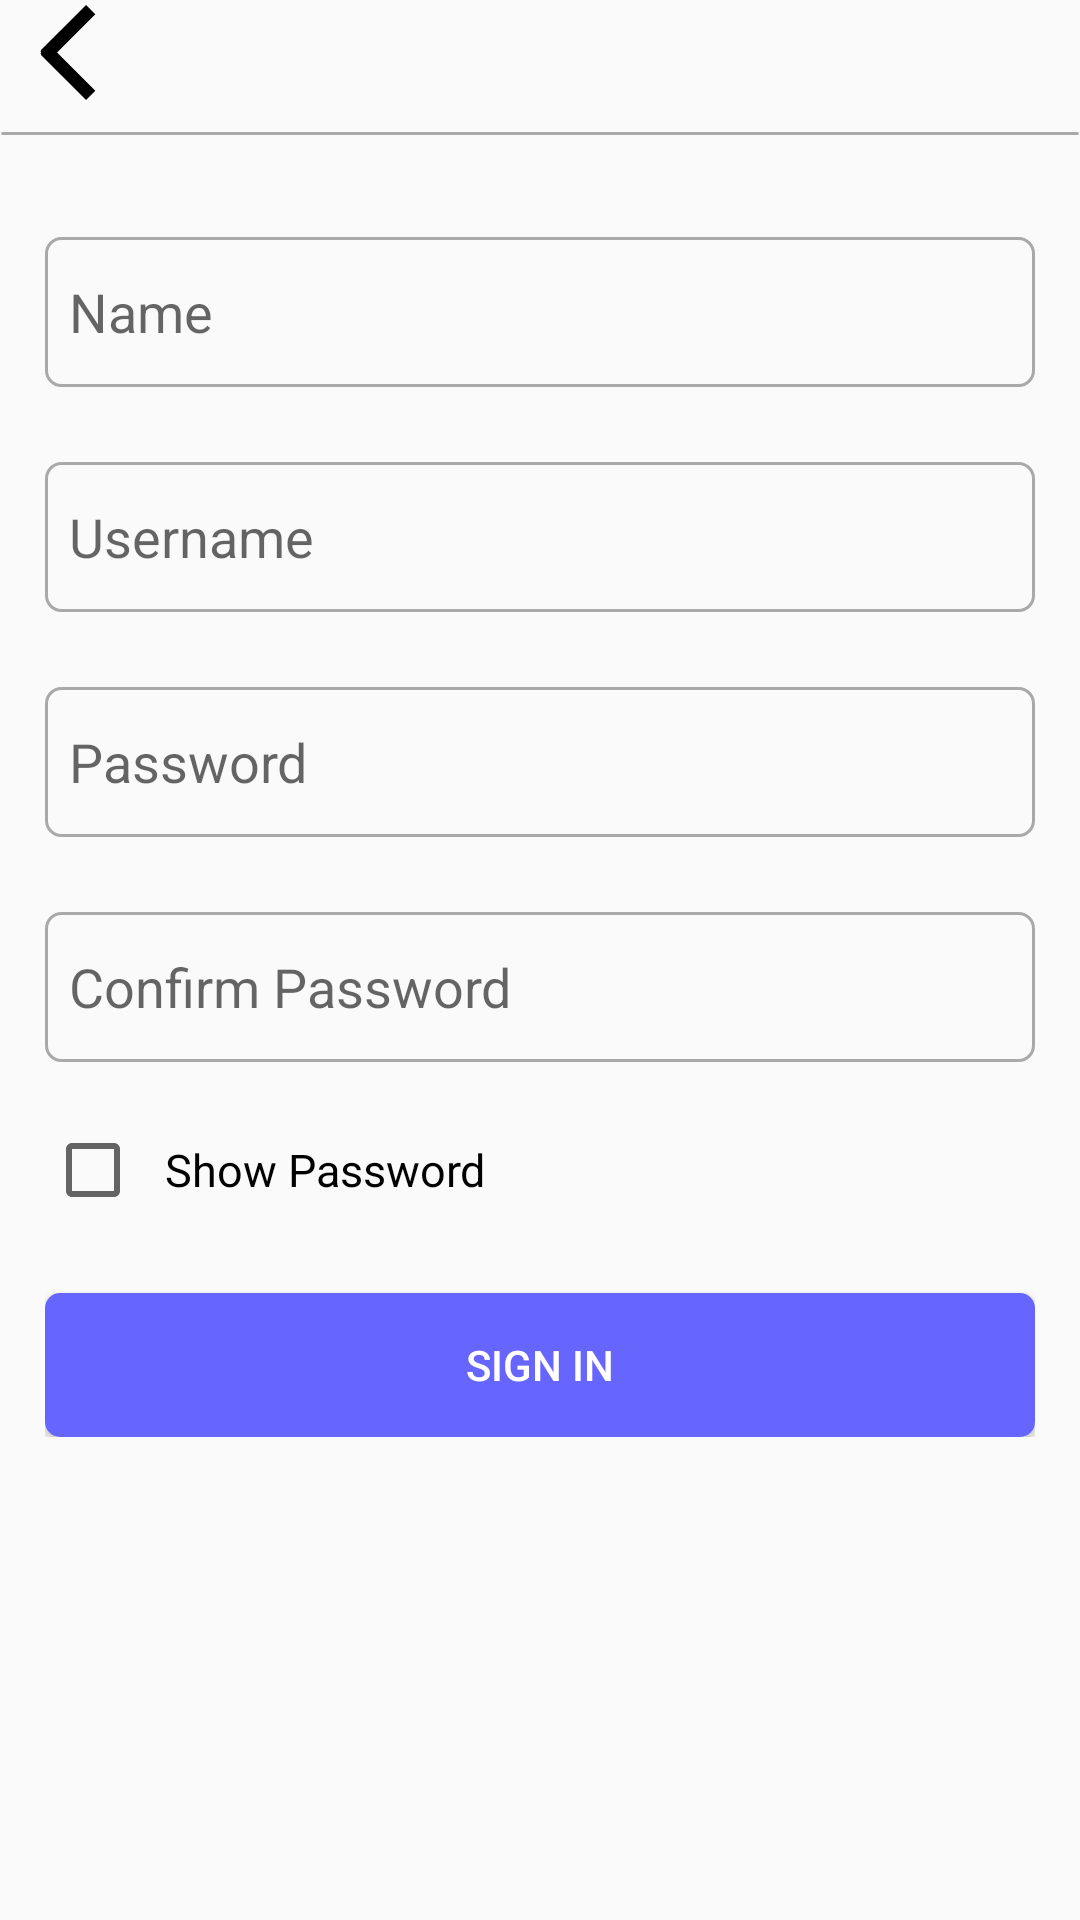

Icon click points for this 1080*1920 phone screenshot, format (x=x, y=y):
arrow: (x=67, y=52)
